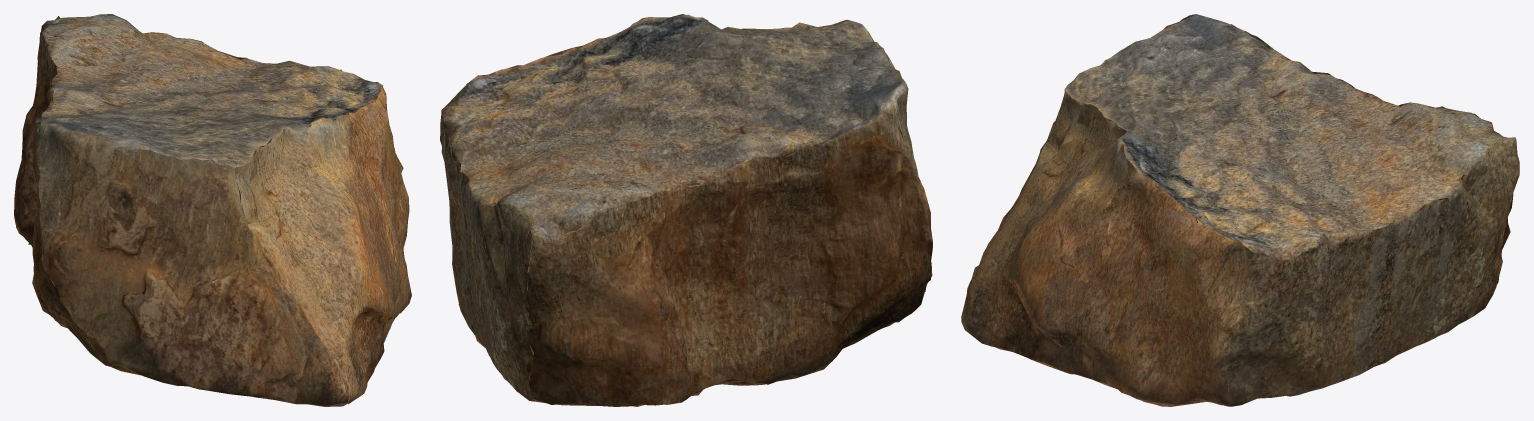
File: namaqualand_boulder_03.glb
3 views of the same model, side by side, from view 1: azimuth 30°, elevation 25°; view 2: azimuth 150°, elevation 25°; view 3: azimuth 270°, elevation 25° (orthographic). The views are drawn at different scales.
Parts seen in each view (by area): view 1: boulder_03_LOD0; view 2: boulder_03_LOD0; view 3: boulder_03_LOD0.
Part boxes in pixels (box(x1,y1,x2,y2)): boulder_03_LOD0: box(14, 14, 411, 406); boulder_03_LOD0: box(440, 14, 932, 406); boulder_03_LOD0: box(961, 14, 1519, 406).
Size of the model in its own units: 2.4 by 1.48 by 3.07.
1 material, 1 textured.
